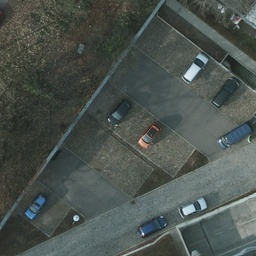car: (180, 54, 208, 83), (212, 77, 238, 107), (24, 192, 48, 221), (137, 215, 169, 236), (139, 121, 160, 149), (111, 102, 131, 125), (180, 197, 207, 213), (1, 6, 4, 37)
van: (217, 123, 251, 146)
